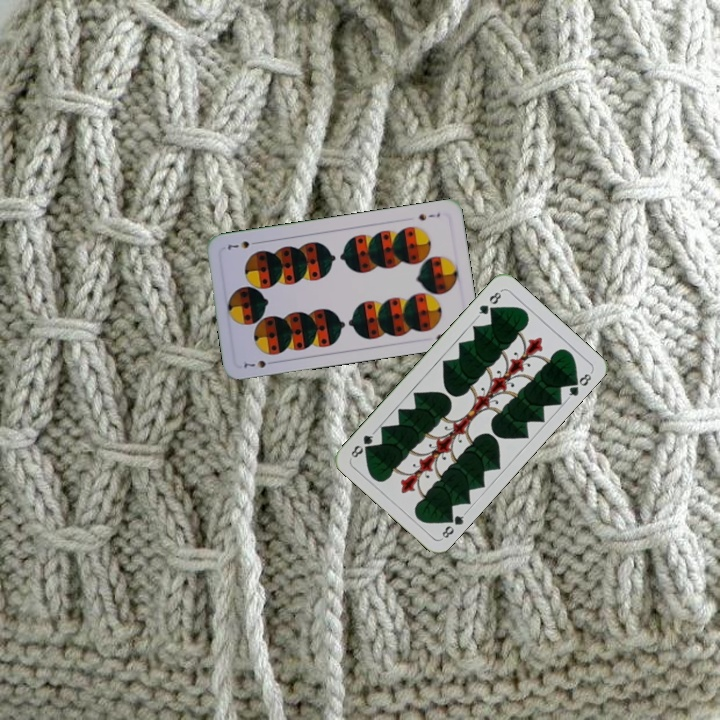G8: (473, 287, 505, 320), (438, 508, 469, 541)
S7: (239, 356, 278, 371), (414, 208, 443, 223)
